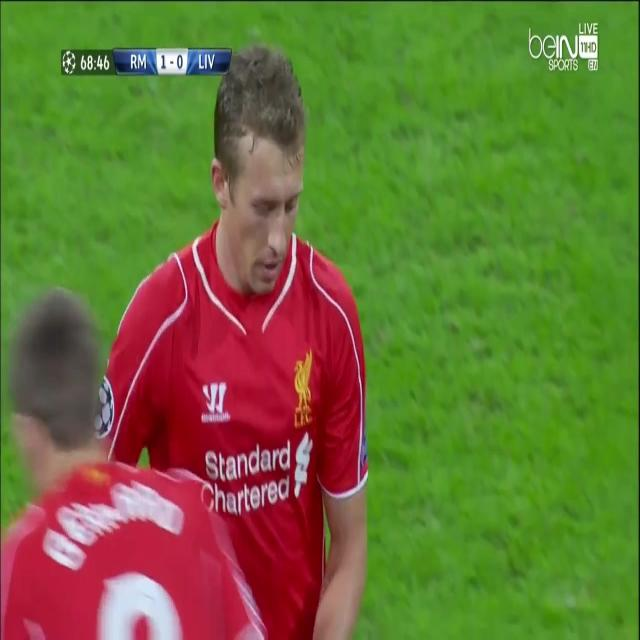Player: (92, 44, 370, 640), (1, 284, 273, 640)
